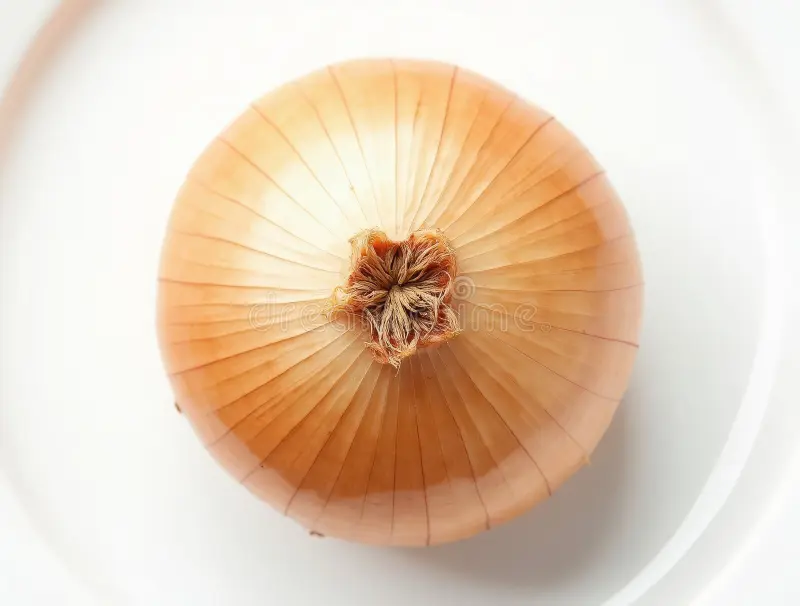onion: (102, 27, 693, 557)
